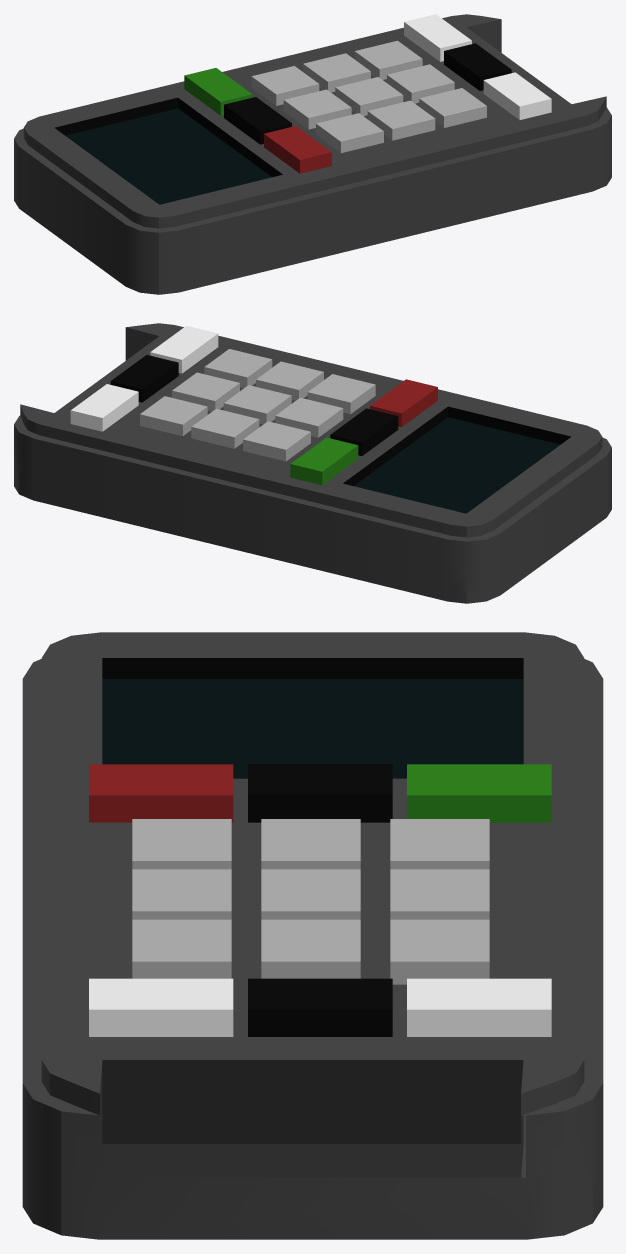
File: CardReader_01.glb
3 views of the same model, one above another, from view 1: azimuth 30°, elevation 25°; view 2: azimuth 150°, elevation 25°; view 3: azimuth 270°, elevation 25° (orthographic). The views are drawn at different scales.
Parts seen in each view (by area): view 1: Mesh_CardReader_01; view 2: Mesh_CardReader_01; view 3: Mesh_CardReader_01.
Part boxes in pixels (x1,y1,x2,y2): Mesh_CardReader_01: (14, 14, 611, 294); Mesh_CardReader_01: (14, 323, 611, 603); Mesh_CardReader_01: (22, 632, 603, 1239).
Bounding box in the file's own units: 0.2123 × 0.0366 × 0.1109.
1 material, 1 textured.
